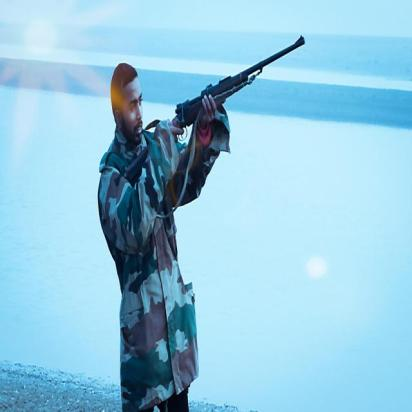Gun: (125, 32, 306, 191)
